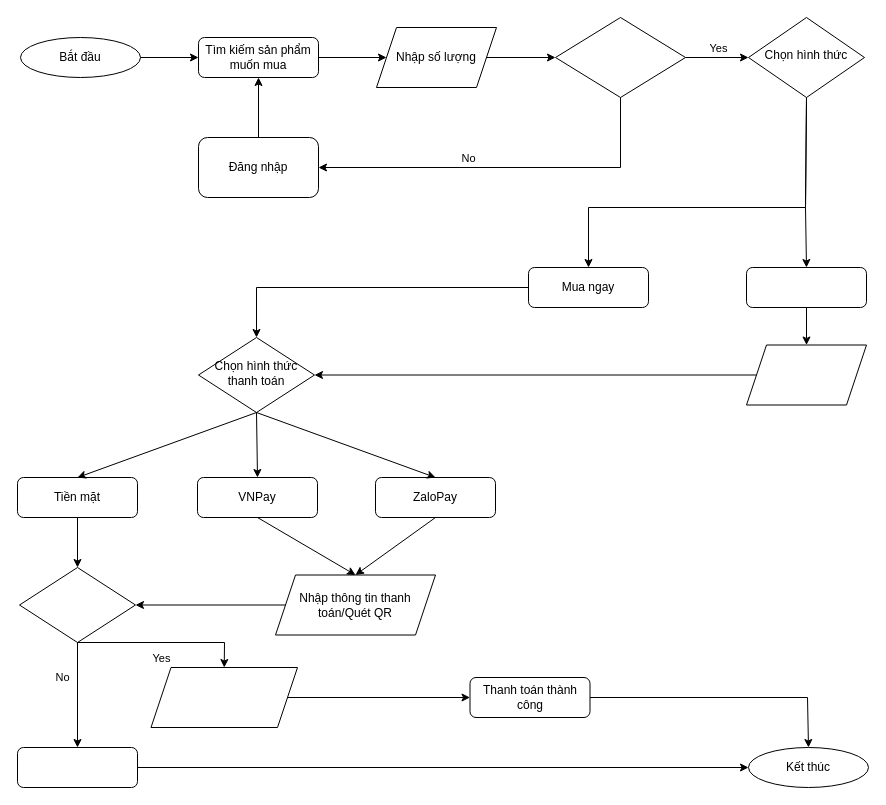
Some shapes in this 886 by 805 pixel diagram are drawn without their labels. The centre of each missing label's shape, as x and y in pixels:
"Chọn sản phẩm muốn thanh toán" goes at (806,374).
"Gửi mail thông tin đơn hàng" goes at (224,697).
"Kiểm tra thanh toán" goes at (77,604).
"Kiểm tra đăng nhập" goes at (620,57).
"Thanh toán thất bại" goes at (77,767).
"Thêm vào giỏ hàng" goes at (806,287).
